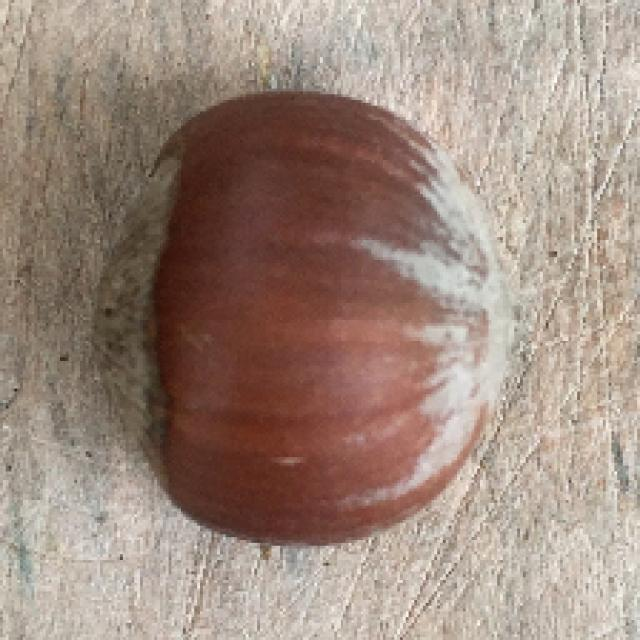qualityHazelnut: (92, 91, 521, 551)
